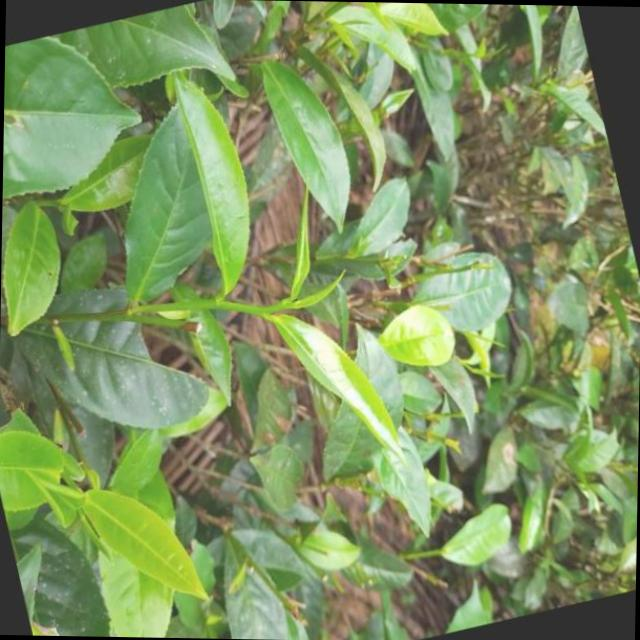Stem: (256, 305, 264, 314)
